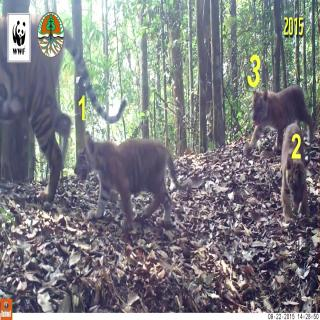Tiger: (67, 128, 190, 238), (245, 82, 311, 156), (279, 119, 313, 233)
